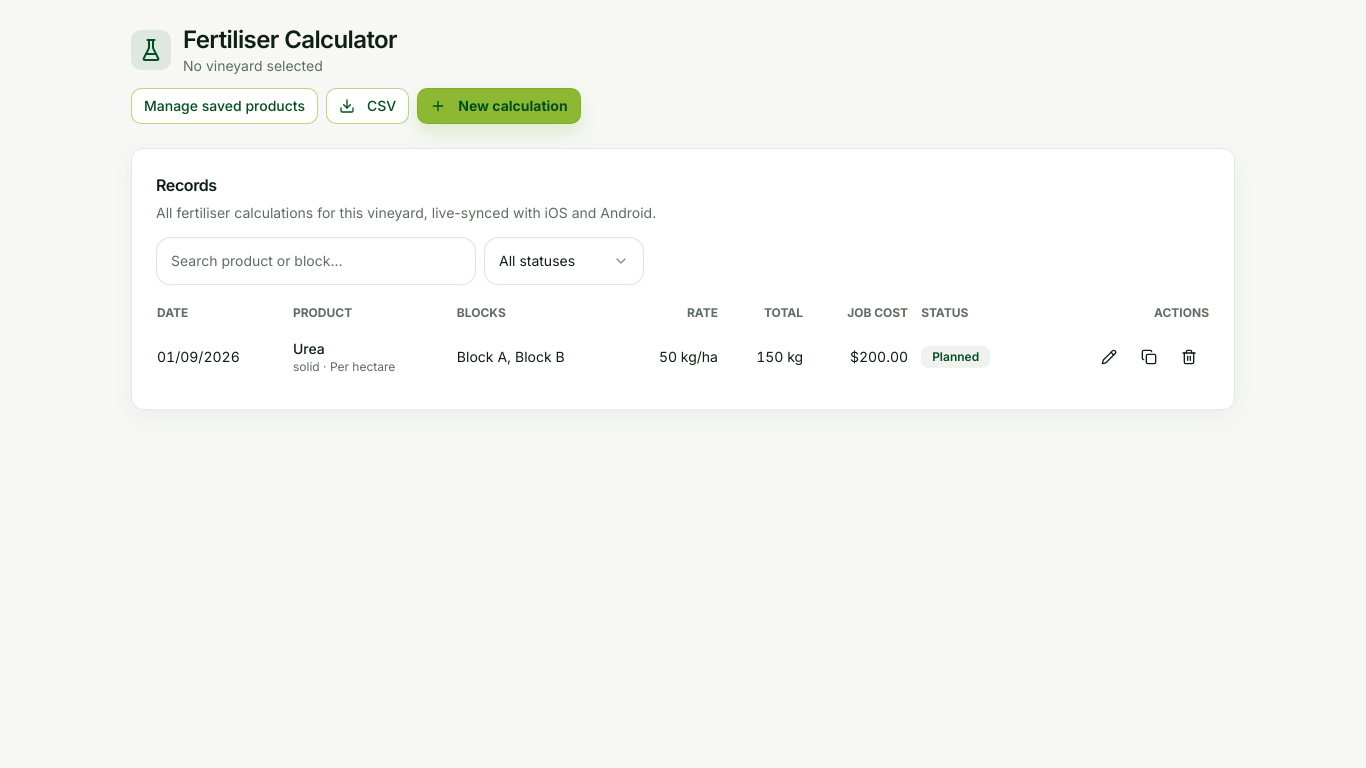
Test: Fertiliser Mark Completed › saves the same record as completed, keeps values and allocation IDs, then closes
Click the button titled "Edit". click: click(1109, 357)
box: [1089,337,1129,377]
(page scrolled)
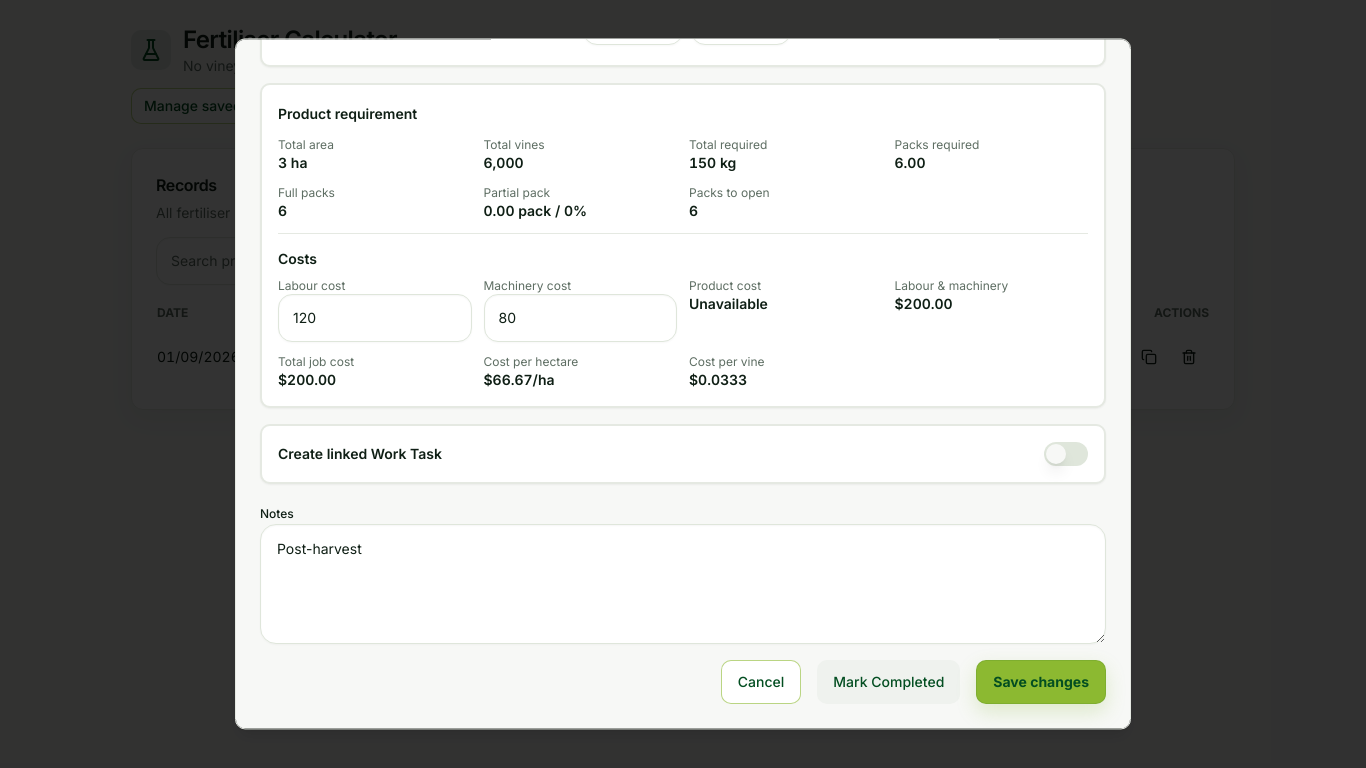
Check: the button "Mark Completed" is enabled
Click the button "Mark Completed". click: click(889, 682)
box: [817,660,960,704]
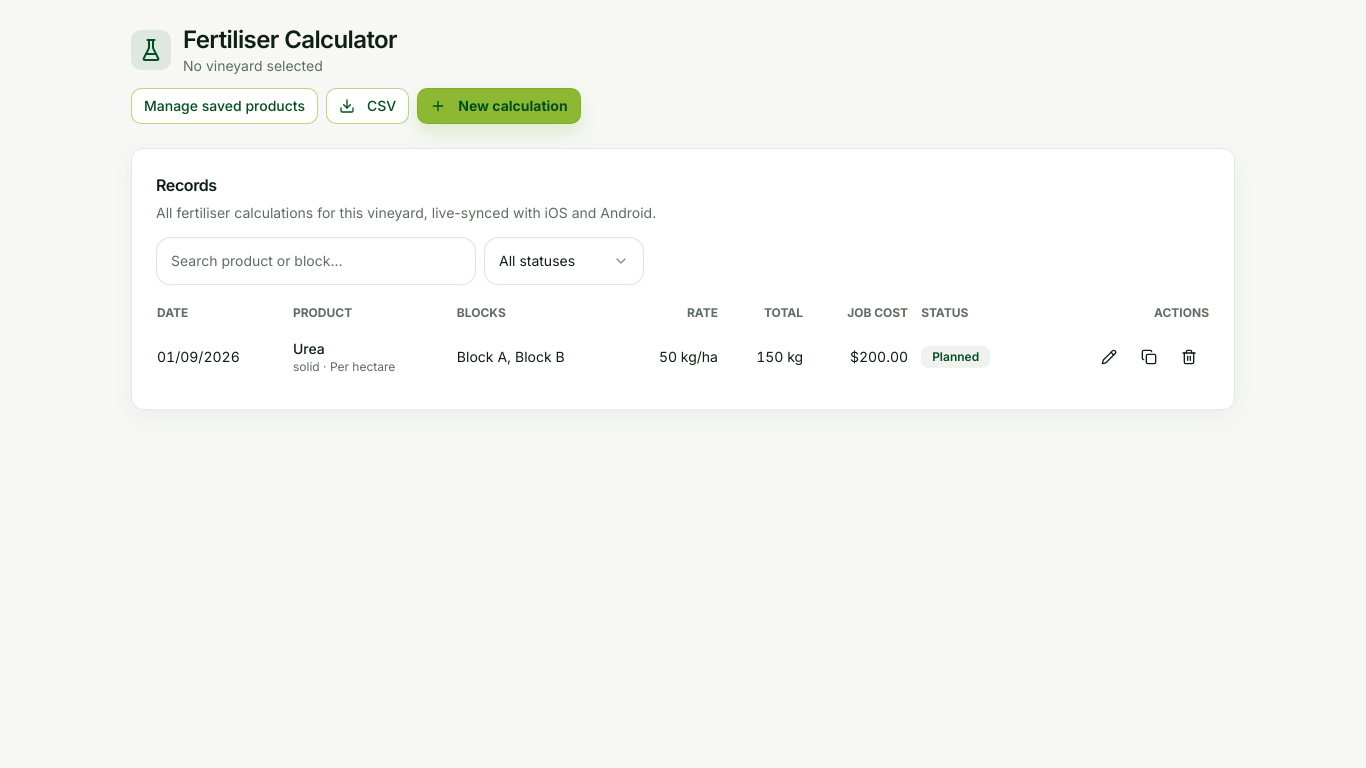
Check: the dialog is gone
